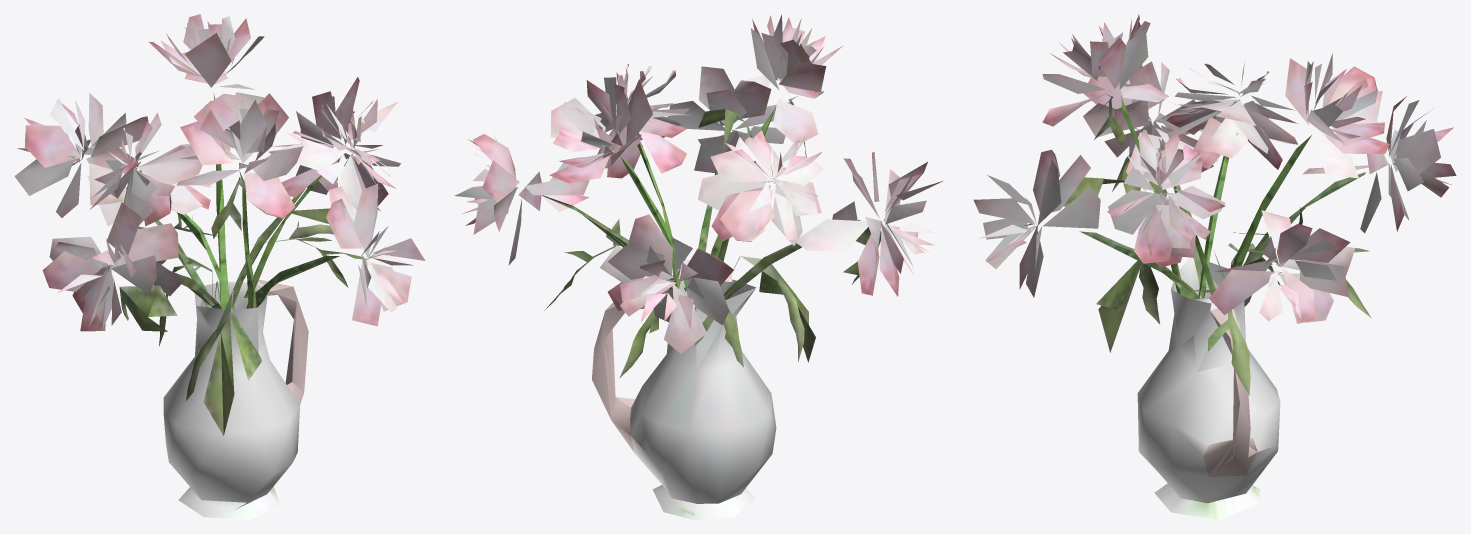
Rendered from Vase0017.obj.
3 renders of one model, left to right at view 1: azimuth 30°, elevation 25°; view 2: azimuth 150°, elevation 25°; view 3: azimuth 270°, elevation 25°, orthographic. The views are drawn at different scales.
Size of the model in its own units: 0.402 by 0.428 by 0.406.
Materials: 1 (1 with a texture image).
